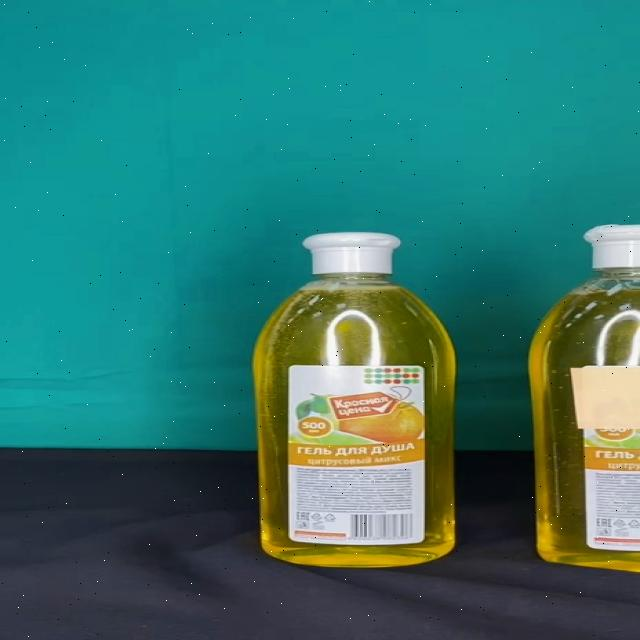Bottle: (253, 233, 456, 567)
Cap: (301, 233, 402, 275)
